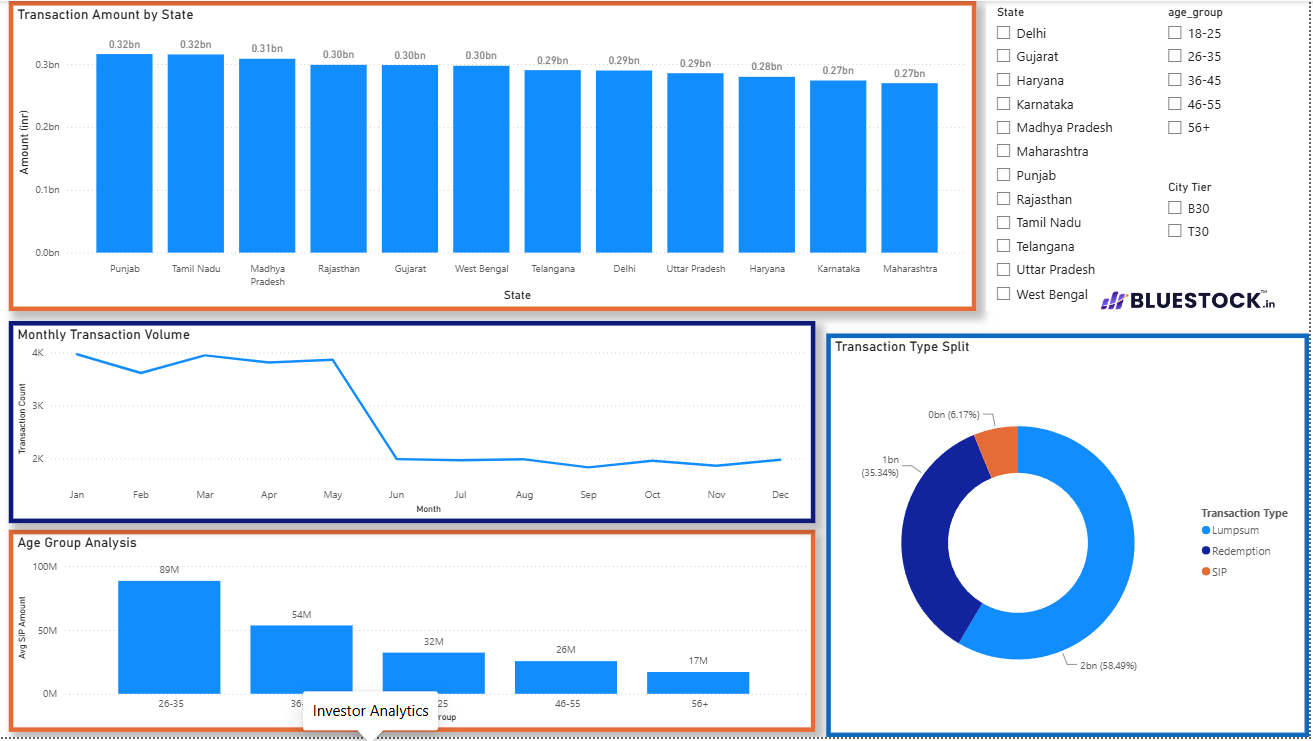

The page's visual inventory and layout, read from the dashboard file:
{"tool":"powerbi","page":{"name":"Investor Analytics","canvas":[1600,900],"ordinal":2},"visuals":[{"type":"clusteredColumnChart","title":"Transaction Amount by State","fields":{"Category":["fact_transactions.state"],"Y":["Sum(fact_transactions.amount_inr)"]},"box":[10.3,0,1183.5,379.1],"z":0},{"type":"donutChart","title":"Transaction Type Split","fields":{"Category":["fact_transactions.transaction_type"],"Y":["Sum(fact_transactions.amount_inr)"]},"box":[1010.3,406.5,590.1,494],"z":1000},{"type":"clusteredColumnChart","title":"Age Group Analysis","fields":{"Category":["fact_transactions.age_group"],"Y":["Sum(fact_transactions.amount_inr)"]},"box":[10.3,646.7,986.3,247],"z":2000},{"type":"lineChart","title":"Monthly Transaction Volume","fields":{"Y":["CountNonNull(fact_transactions.investor_id)"],"Category":["dim_date.Month"]},"box":[10.3,391.1,986.3,247],"z":3000},{"type":"slicer","fields":{"Values":["fact_transactions.state"]},"box":[1205.8,0,209.3,379.1],"z":4000},{"type":"slicer","fields":{"Values":["fact_transactions.age_group"]},"box":[1415.1,0,185.2,228.1],"z":5000},{"type":"slicer","fields":{"Values":["fact_transactions.city_tier"]},"box":[1415.1,214.4,185.2,113.2],"z":6000},{"type":"image","box":[1305.3,351.6,295,27.4],"z":6001}]}

Visuals, with their boxes in screenshot pixels (x1, y1, x2, y2), scaled from the page's 1600x900 canvas onto the 1313x741 screenshot:
"Transaction Amount by State" clusteredColumnChart: x1=8, y1=0, x2=980, y2=312
"Transaction Type Split" donutChart: x1=829, y1=335, x2=1312, y2=740
"Age Group Analysis" clusteredColumnChart: x1=8, y1=532, x2=818, y2=736
"Monthly Transaction Volume" lineChart: x1=8, y1=322, x2=818, y2=525
slicer - fact_transactions.state: x1=990, y1=0, x2=1161, y2=312
slicer - fact_transactions.age_group: x1=1161, y1=0, x2=1312, y2=188
slicer - fact_transactions.city_tier: x1=1161, y1=177, x2=1312, y2=270
image: x1=1071, y1=289, x2=1312, y2=312
